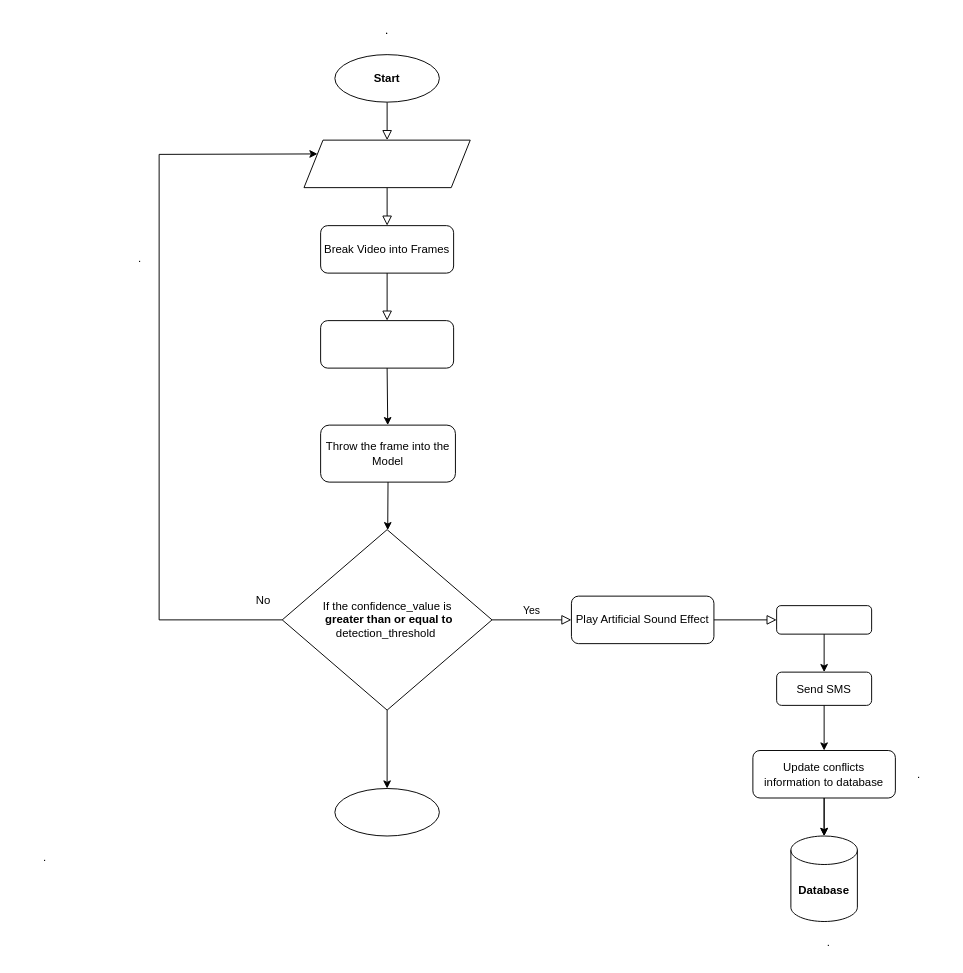
The diagram is 963 pixels wide and 973 high, and some of its shapes have lost their labels. Here are the shapes that lost their labels. From the top down, the centre of each, then its label:
the point at 386,163: Input: Video Stream
the point at 387,344: Preprocess Frame
the point at 824,619: Send Email
the point at 386,812: End
